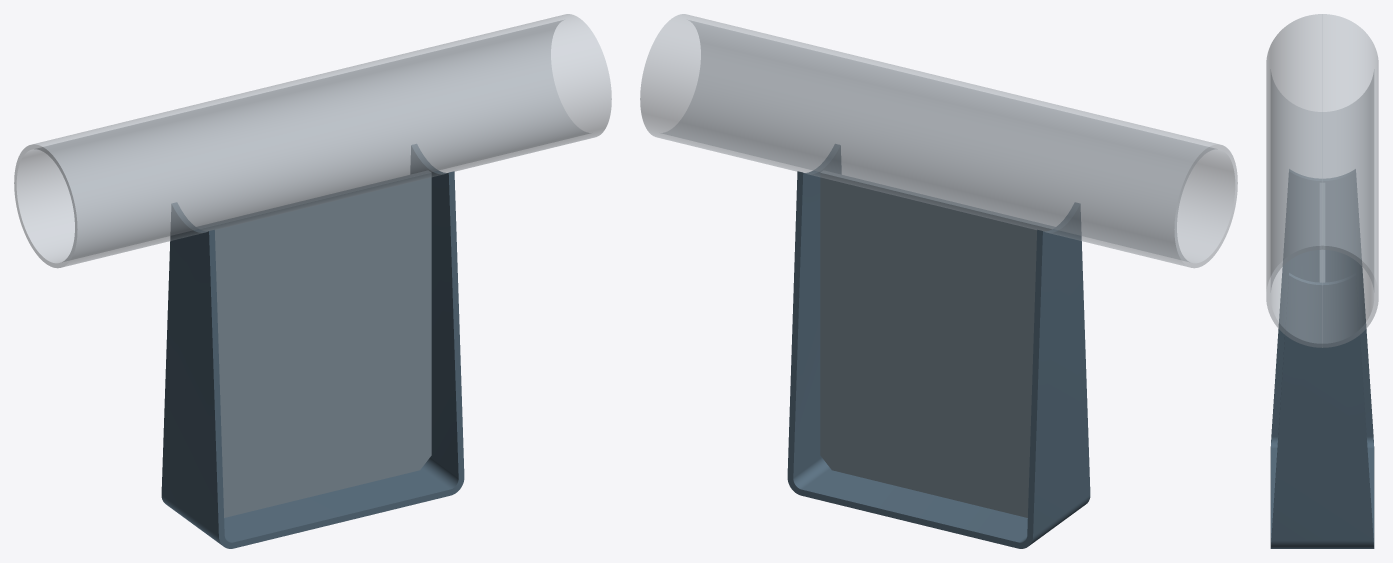
File: TS-623.000-05-opora-dn76-H200-L170.glb
3 renders of one model, left to right at view 1: azimuth 30°, elevation 25°; view 2: azimuth 150°, elevation 25°; view 3: azimuth 270°, elevation 25°, orthographic. The views are drawn at different scales.
Visible parts, largest first — view 1: truba, rebro, skoba; view 2: truba, rebro, skoba; view 3: truba, skoba, rebro.
Part boxes in pixels (x1,y1,x2,y2): truba: (14, 14, 611, 268); rebro: (197, 171, 431, 517); skoba: (161, 144, 464, 548); truba: (640, 14, 1237, 268); rebro: (820, 171, 1054, 517); skoba: (787, 144, 1090, 548); truba: (1266, 14, 1378, 347); skoba: (1270, 169, 1374, 548); rebro: (1319, 183, 1325, 282).
Size of the model in its own units: 370 by 276 by 76.
